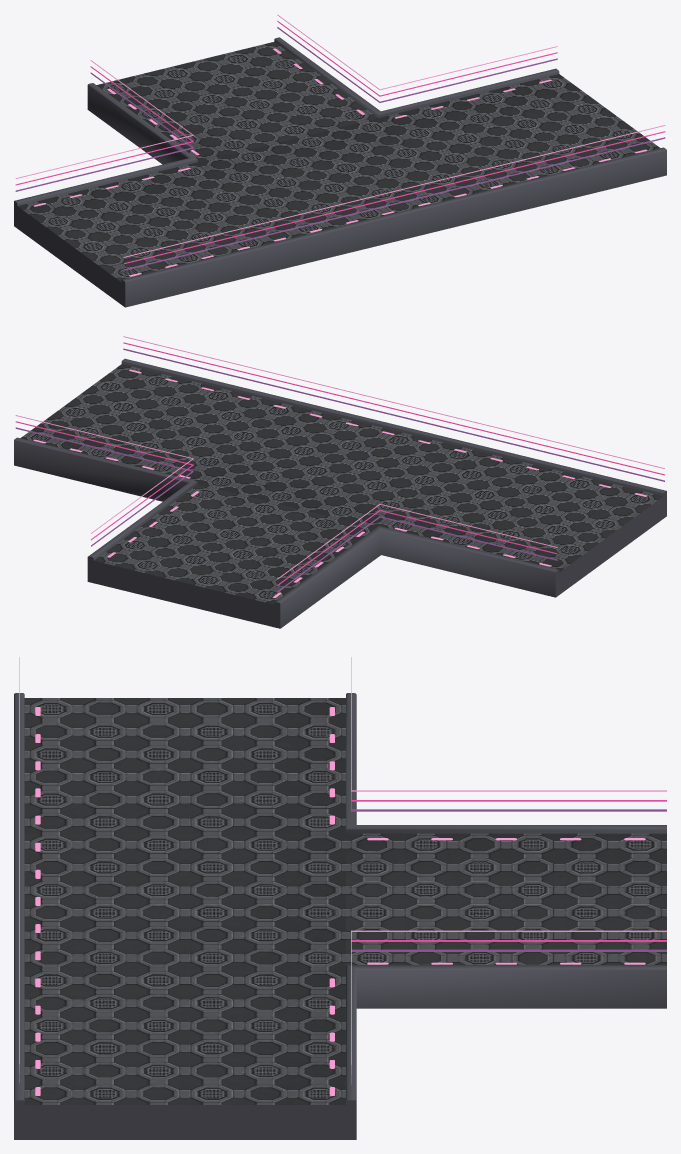
The model's file is tile-fork.glb.
3 views of the same model, one above another, from view 1: azimuth 30°, elevation 25°; view 2: azimuth 150°, elevation 25°; view 3: azimuth 270°, elevation 25° (orthographic). The views are drawn at different scales.
Visible parts, largest first — view 1: Platform1_3; view 2: Platform1_3; view 3: Platform1_3.
Boxes of the visible parts, box(x1,y1,x2,y2) form: Platform1_3: box(14, 14, 666, 307); Platform1_3: box(14, 336, 666, 628); Platform1_3: box(14, 657, 666, 1139).
Size of what is drawn, in the model's own units: 18 by 1.56 by 12.2.
Materials: 3 (3 with a texture image).
